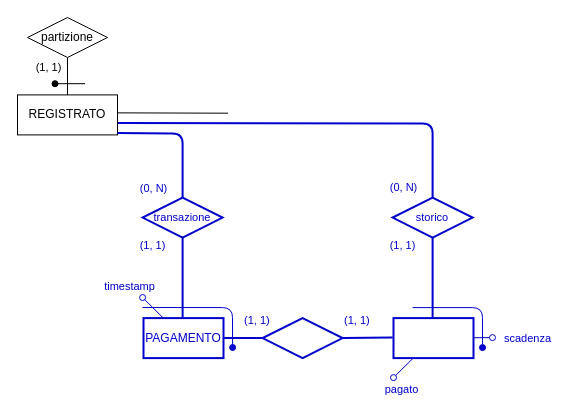
The diagram is 568 pixels wide and 413 high, and some of its shapes have lost their labels. Here are the shapes that lost their labels. From the top down, the centre of each, then its label:
(302,338): hosting
(433,338): RINNOVO
